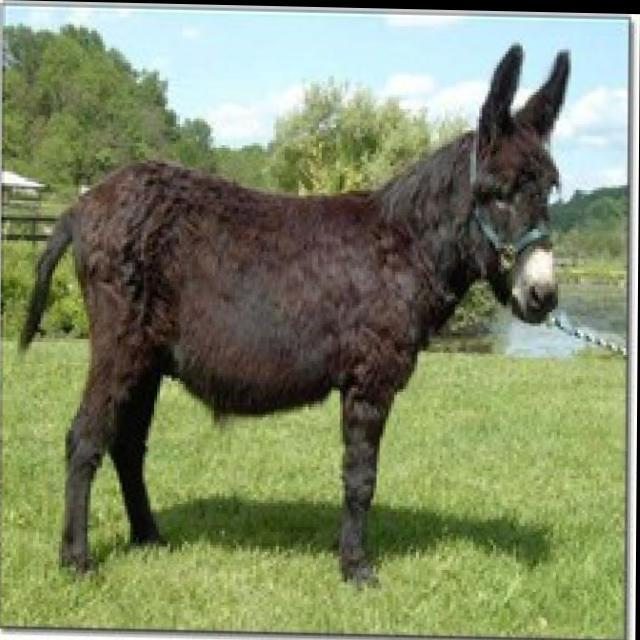Donkey: (14, 28, 571, 590)
